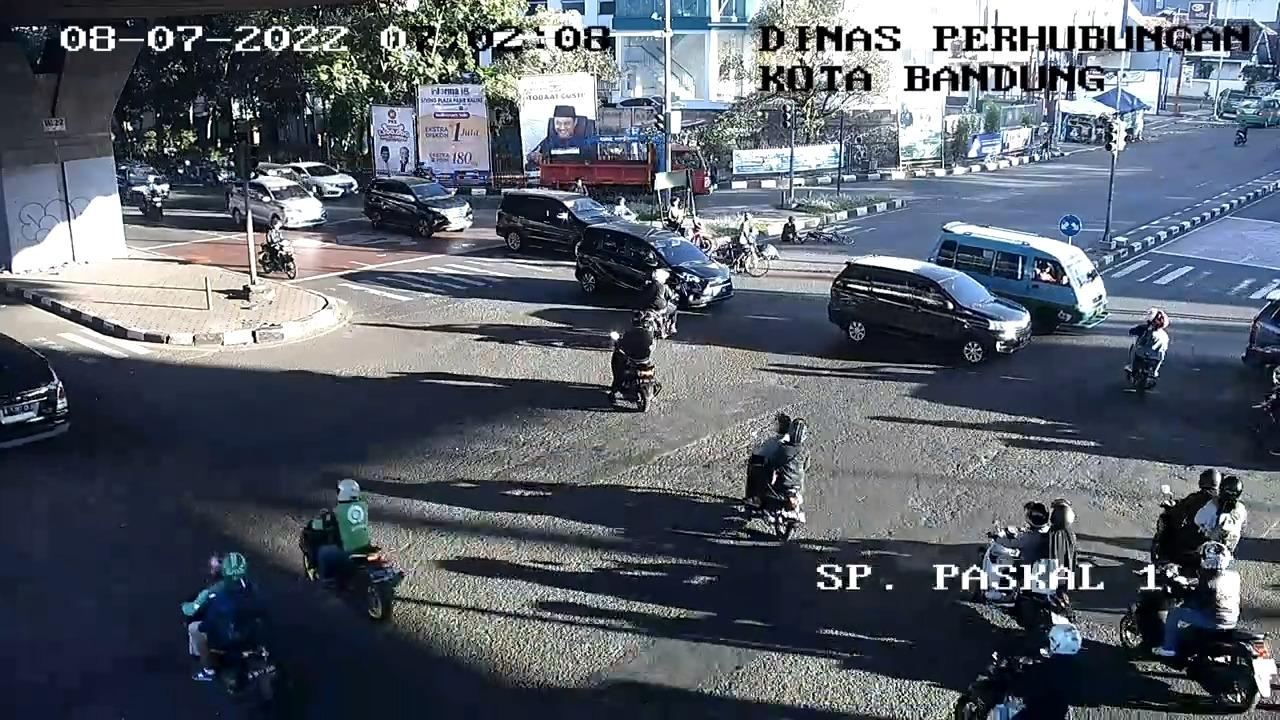accident: (776, 210, 811, 249)
